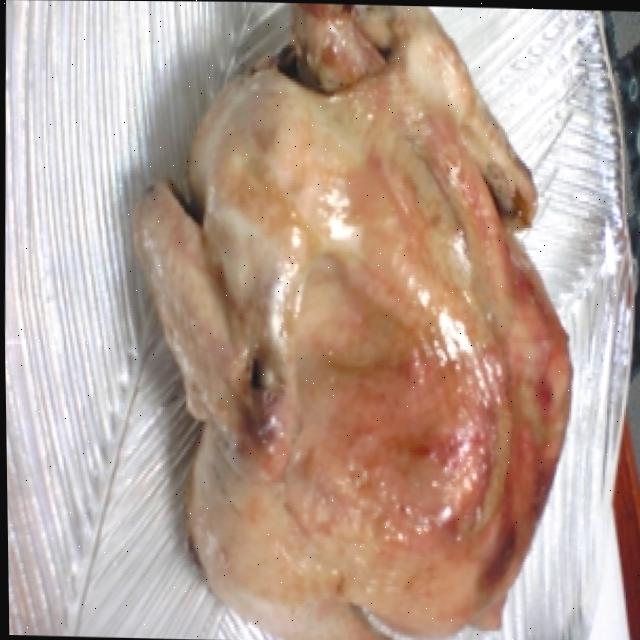鸡肉料理 含炸鸡: (110, 1, 591, 640)
